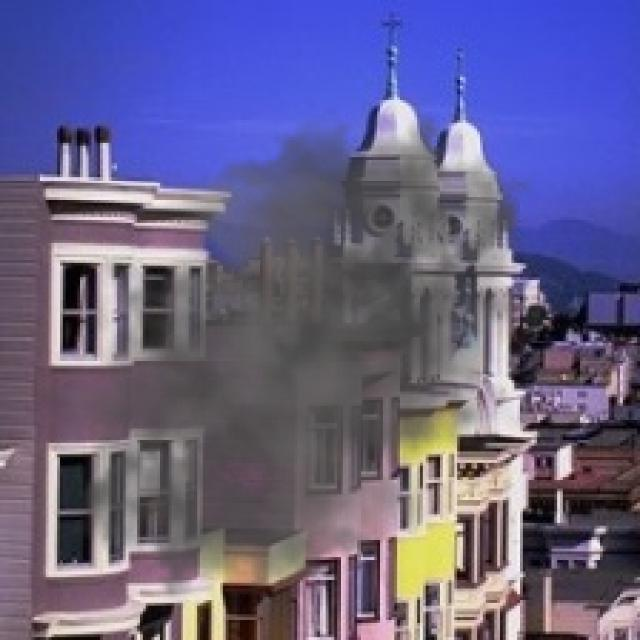Smoke: (40, 80, 560, 634)
